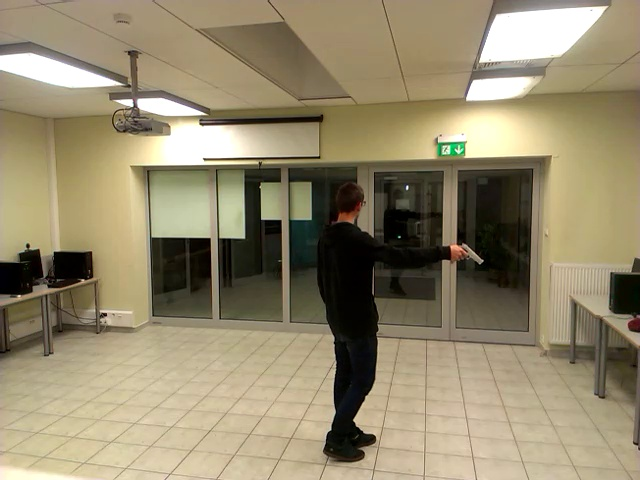gun: (449, 229, 483, 272)
